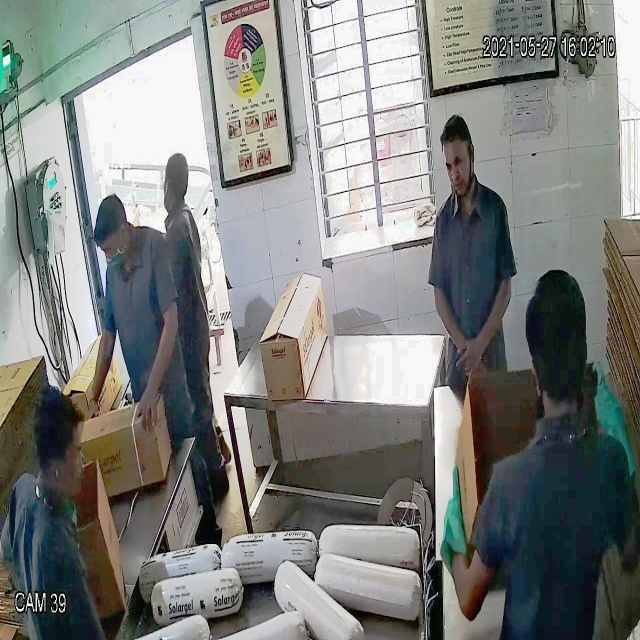Sin_gafas: (443, 146, 474, 180)
